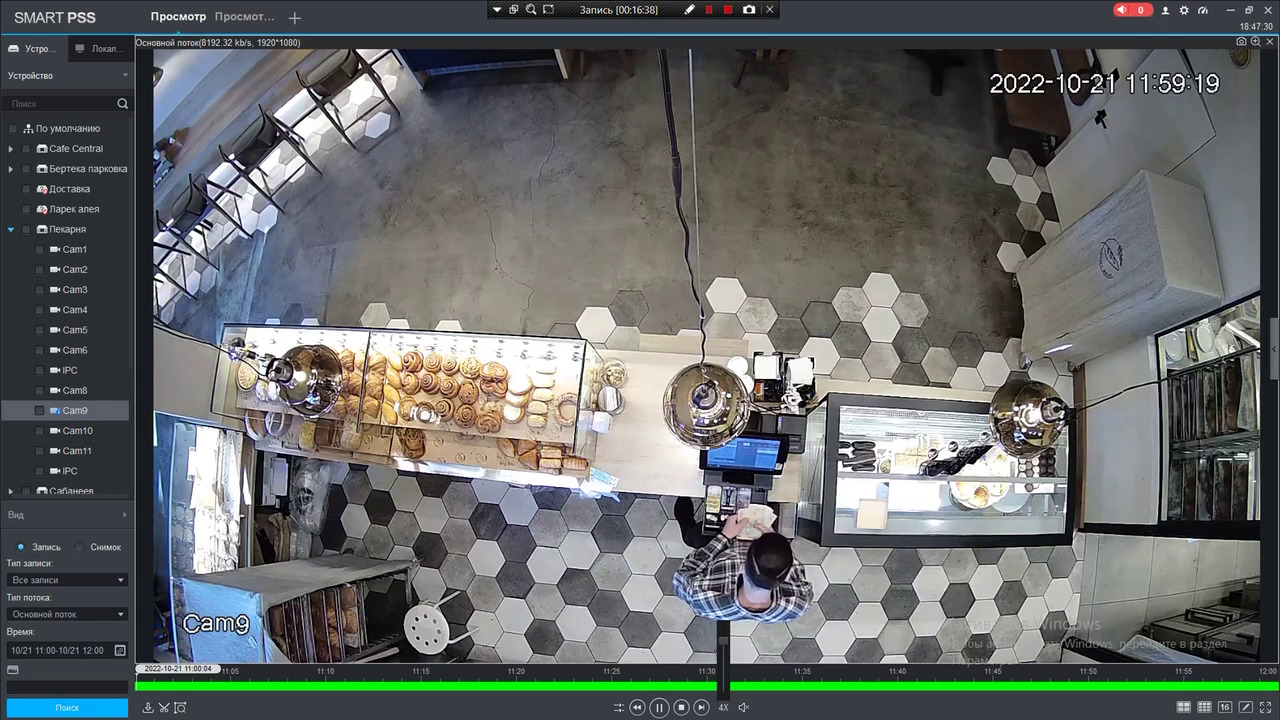barcounter: (198, 324, 1078, 509)
openedcash: (700, 426, 789, 538)
person: (630, 479, 833, 617)
